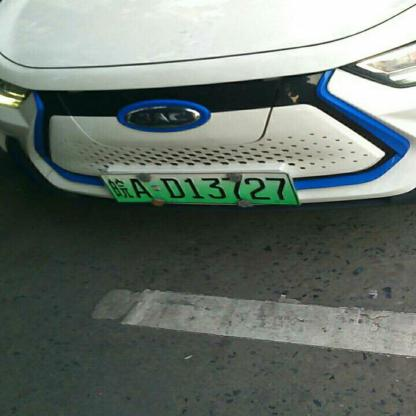lp: (102, 173, 298, 202)
